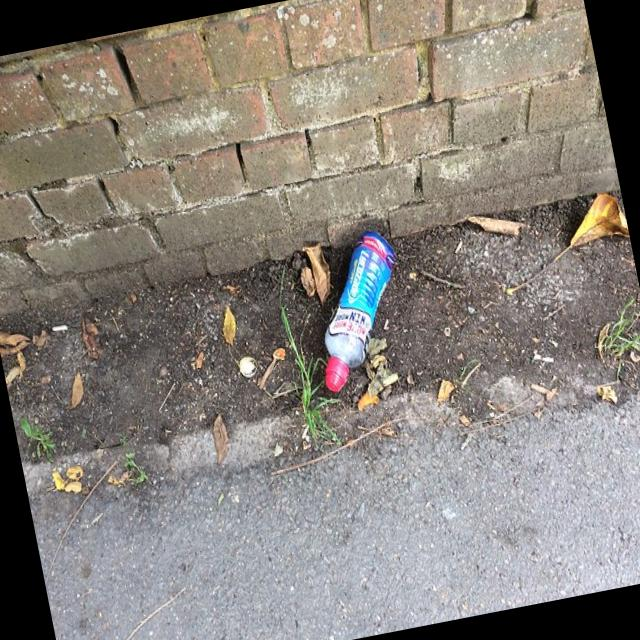Recycle: (298, 222, 422, 402)
